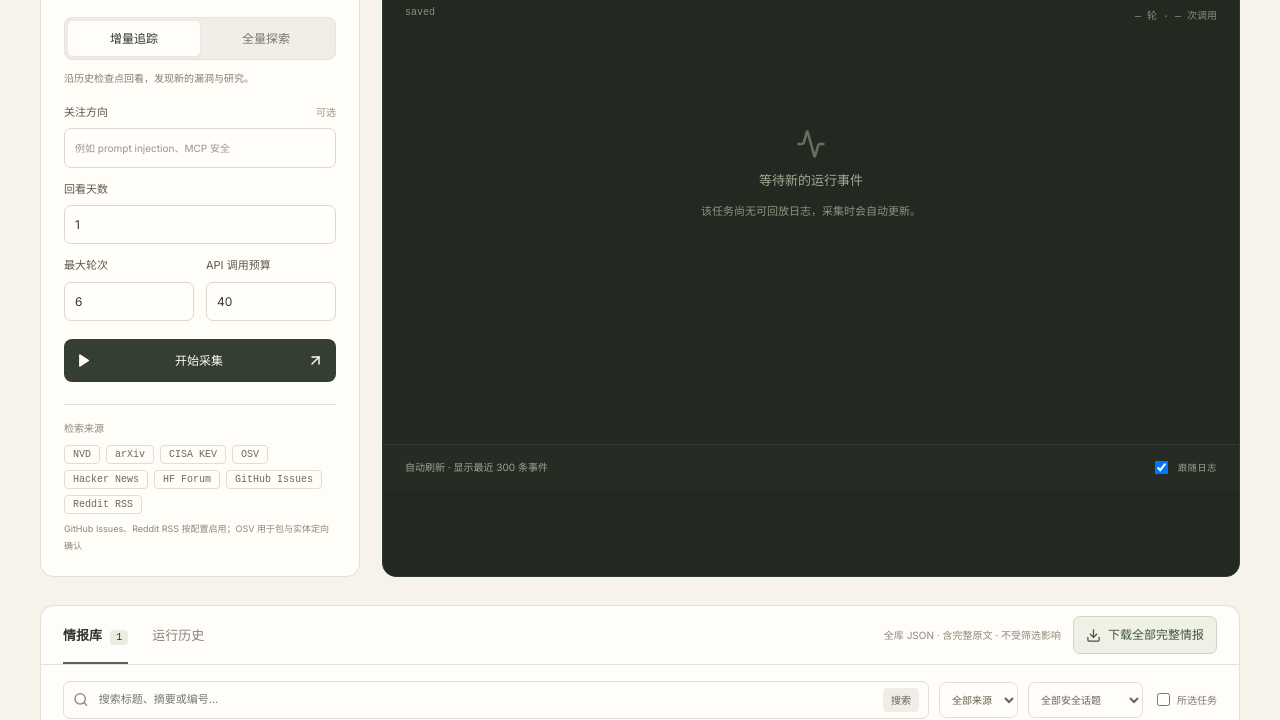
Scenario: IntelDashboard › shows conflict errors instead of claiming a successful start
The width and height of the screenshot is (1280, 720).
(page scrolled)
What coordinates should you click on to do the following:
click the button "开始采集"
I would click on:
 (200, 361)
Its box is [64,339,336,382].
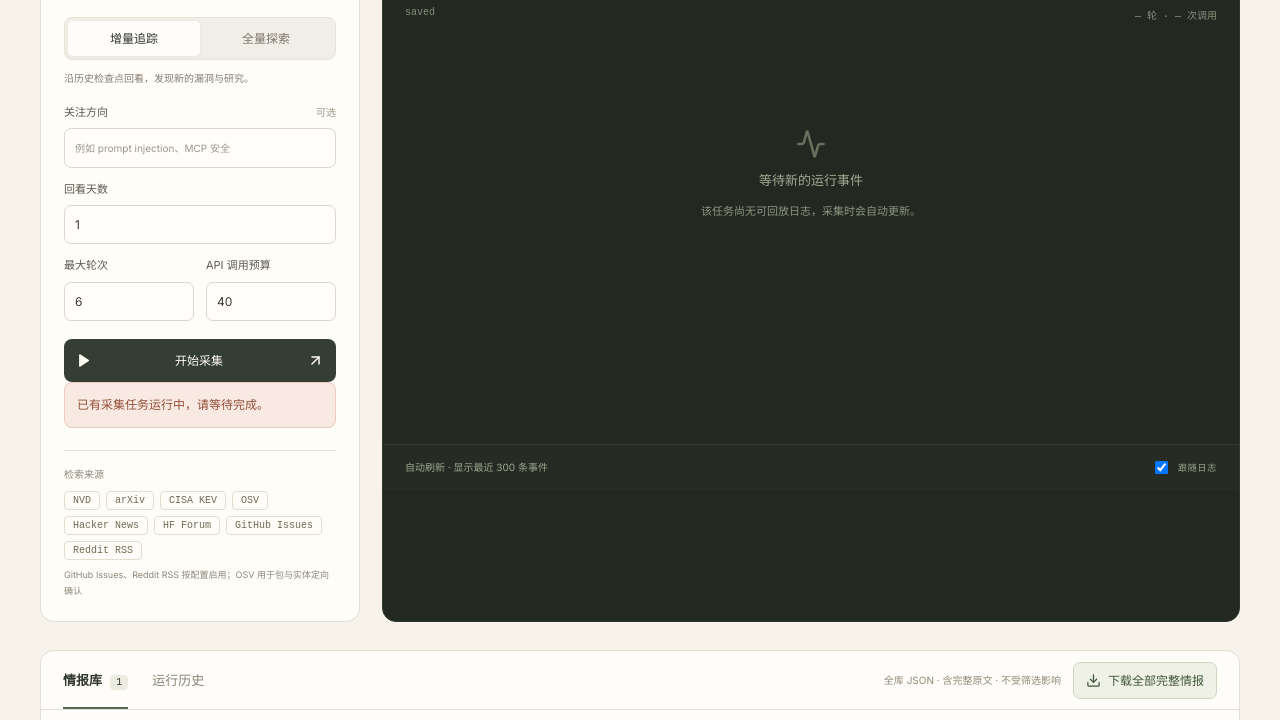
Now the message shows "已有采集任务运行中", box [77,397,269,412]
